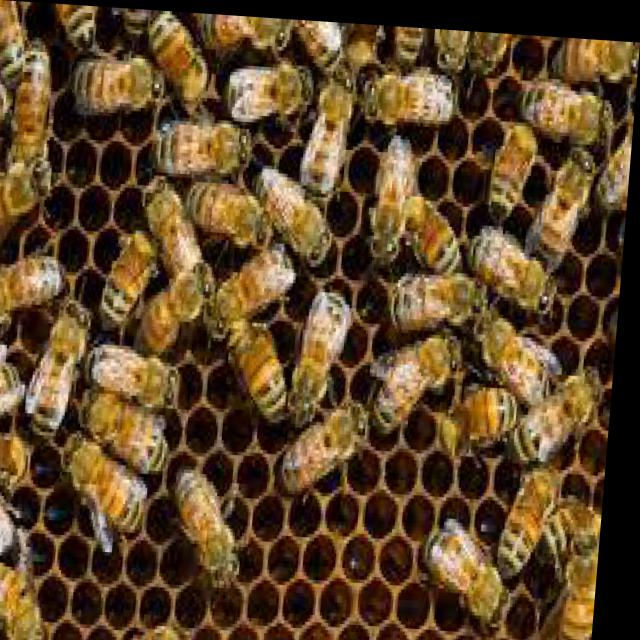Abeille: (421, 500, 530, 632), (50, 423, 155, 542), (174, 453, 256, 590), (373, 325, 475, 435), (35, 291, 105, 441), (465, 213, 571, 311), (482, 290, 568, 410), (86, 326, 194, 413), (259, 154, 344, 264), (7, 36, 70, 181), (290, 387, 375, 492), (138, 252, 221, 350), (299, 56, 357, 189), (182, 167, 276, 249), (538, 125, 600, 249), (237, 306, 309, 411), (220, 49, 317, 123), (73, 38, 171, 110), (366, 62, 462, 122), (0, 546, 61, 638), (505, 463, 562, 561), (163, 115, 256, 175), (374, 127, 418, 251), (103, 223, 160, 316), (0, 246, 69, 319), (489, 107, 531, 215), (0, 416, 45, 491)
